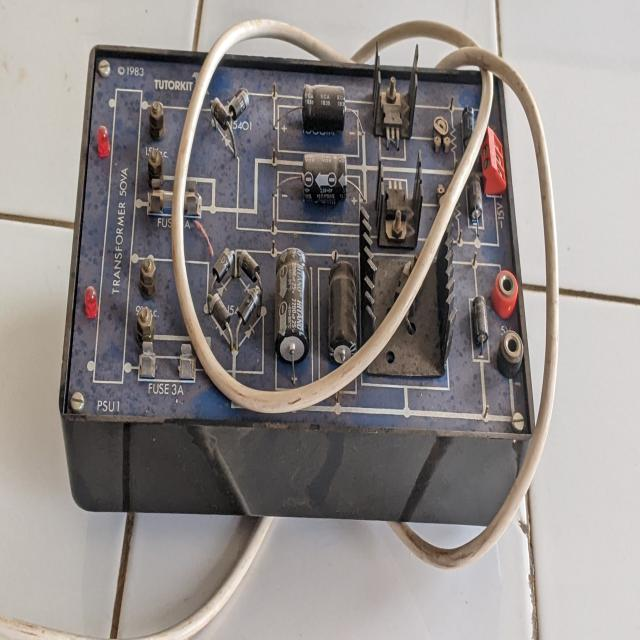Tutor Kit of Electronics: (57, 28, 550, 537)
